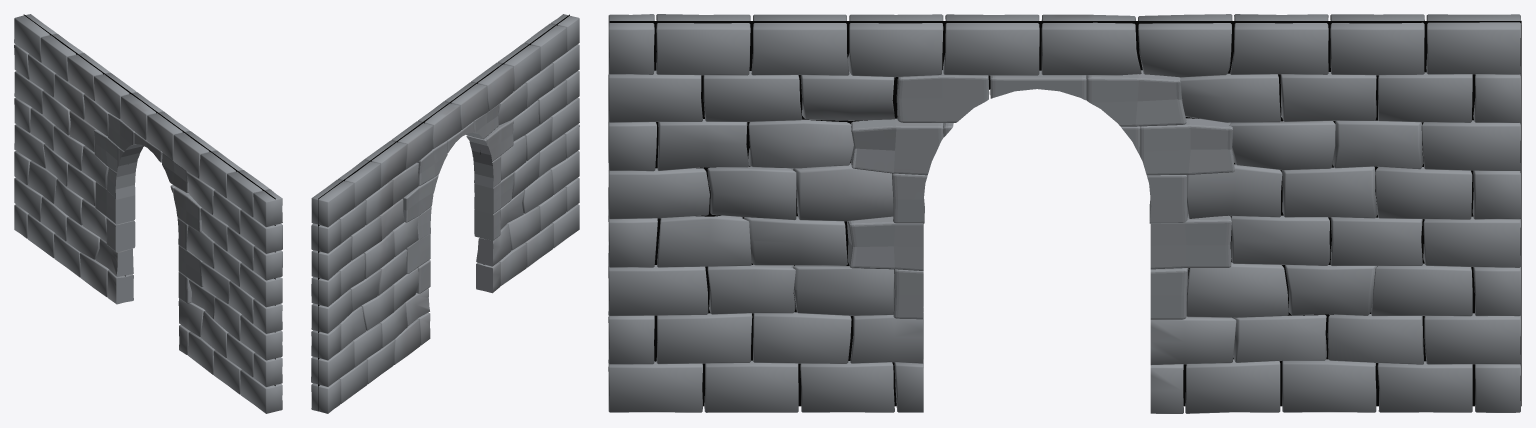
The model's file is Brick_Wall_Door.fbx.
3 views of the same model, side by side, from view 1: azimuth 30°, elevation 25°; view 2: azimuth 150°, elevation 25°; view 3: azimuth 270°, elevation 25° (orthographic). The views are drawn at different scales.
Parts seen in each view (by area): view 1: Cube; view 2: Cube; view 3: Cube.
Boxes of the visible parts, <box> form: Cube: <box>14,14,282,413</box>; Cube: <box>311,14,579,413</box>; Cube: <box>608,14,1521,413</box>.
Size of the model in its own units: 0.8364 by 18.03 by 8.42.
Materials: 2 (1 with a texture image).
